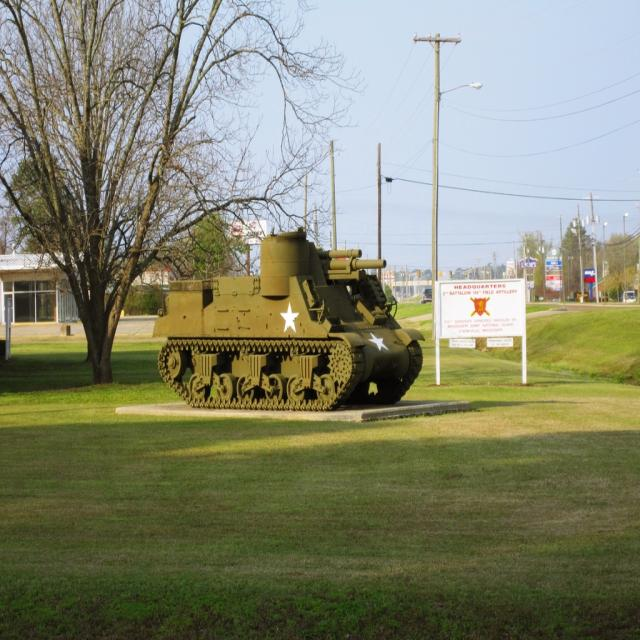tank: (152, 225, 424, 409)
